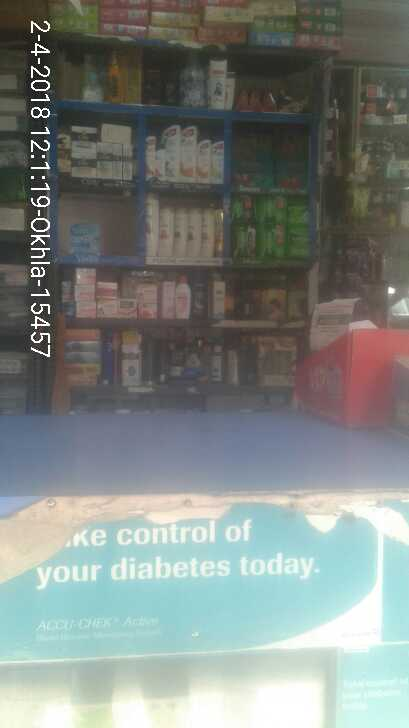venus: (68, 222, 102, 255)
